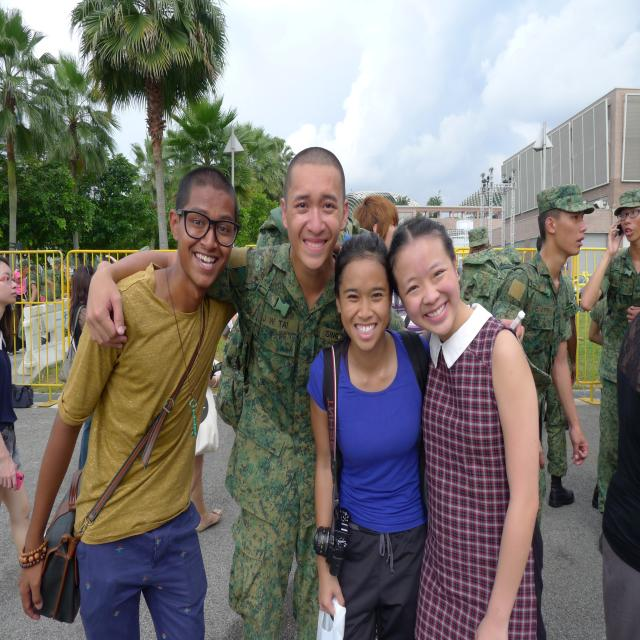body: (82, 145, 407, 640), (16, 163, 238, 640), (383, 213, 543, 640), (306, 230, 434, 640), (457, 181, 598, 534), (578, 185, 640, 516), (595, 310, 640, 640), (532, 229, 580, 509), (0, 253, 31, 559), (58, 264, 96, 471), (189, 357, 223, 534), (16, 259, 59, 342), (351, 194, 401, 259), (8, 268, 28, 356), (41, 257, 69, 301), (468, 226, 491, 256), (226, 312, 243, 338), (95, 260, 112, 269), (69, 274, 74, 299), (30, 265, 41, 275), (72, 268, 76, 274), (63, 270, 67, 276)
